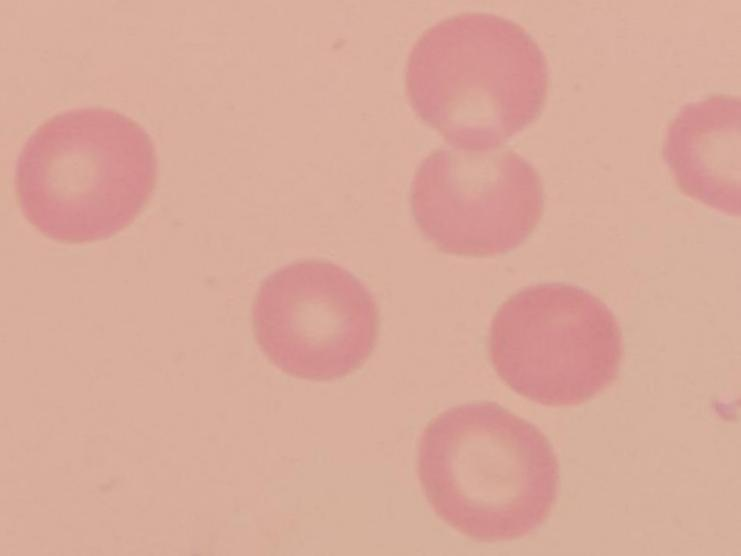Uninfected: (413, 399, 559, 541), (14, 103, 156, 246), (410, 13, 547, 156), (410, 130, 542, 258), (489, 283, 622, 408), (250, 258, 377, 388), (660, 92, 741, 223)
